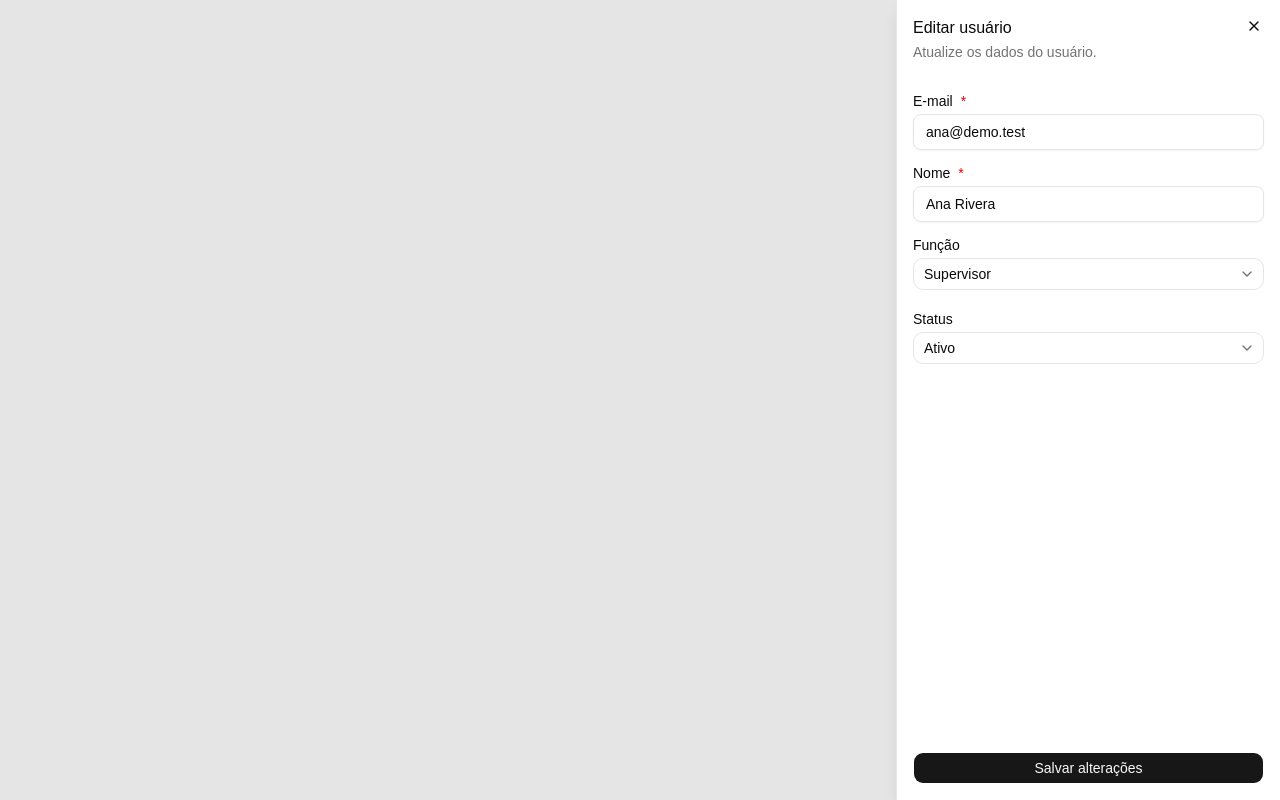
Test: UserForm status labels in pt-BR › UserForm_ShouldShowTheHintInTheActiveLocale_WhenSuspendedIsSelected
The image size is (1280, 800).
Click the dropdown with test id "user-form-status": {"x": 940, "y": 348} [913, 332, 1264, 364]
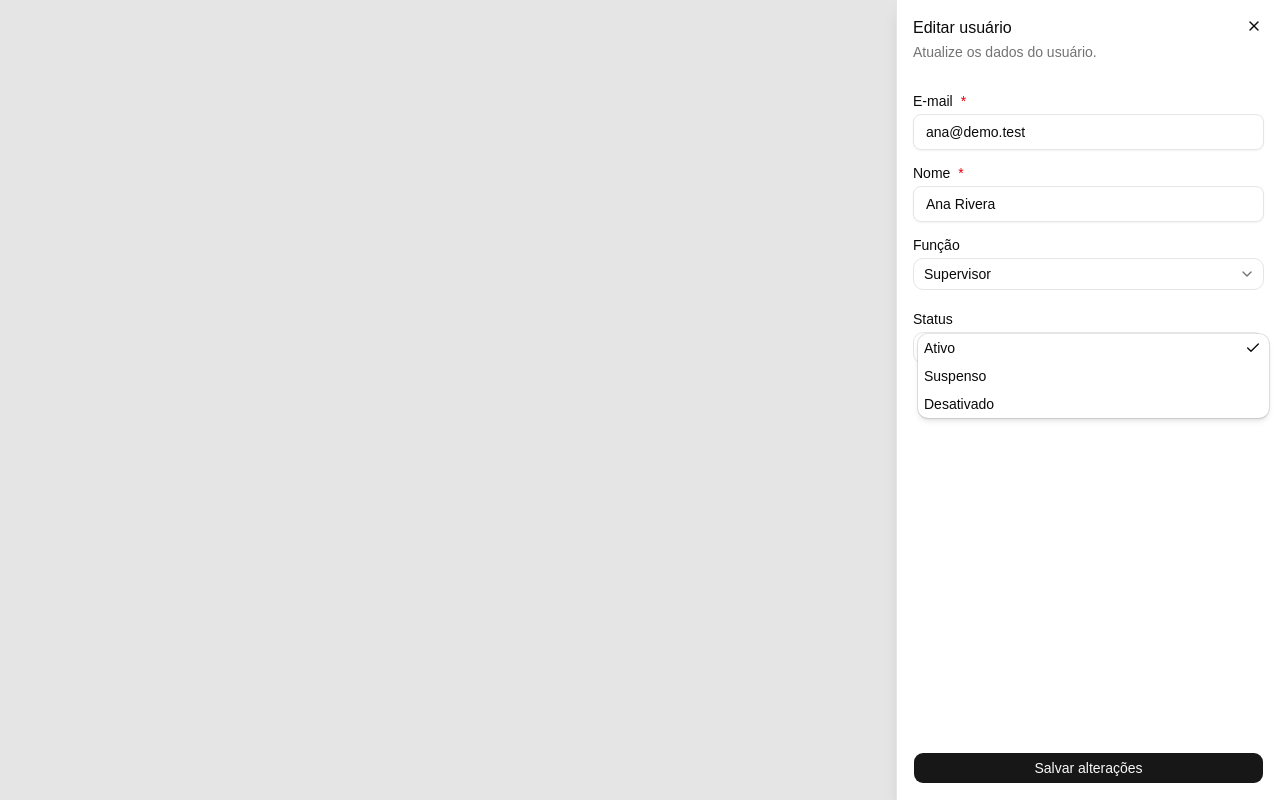
Click the option with test id "user-form-status-option-Suspended": {"x": 955, "y": 376} [924, 368, 986, 384]
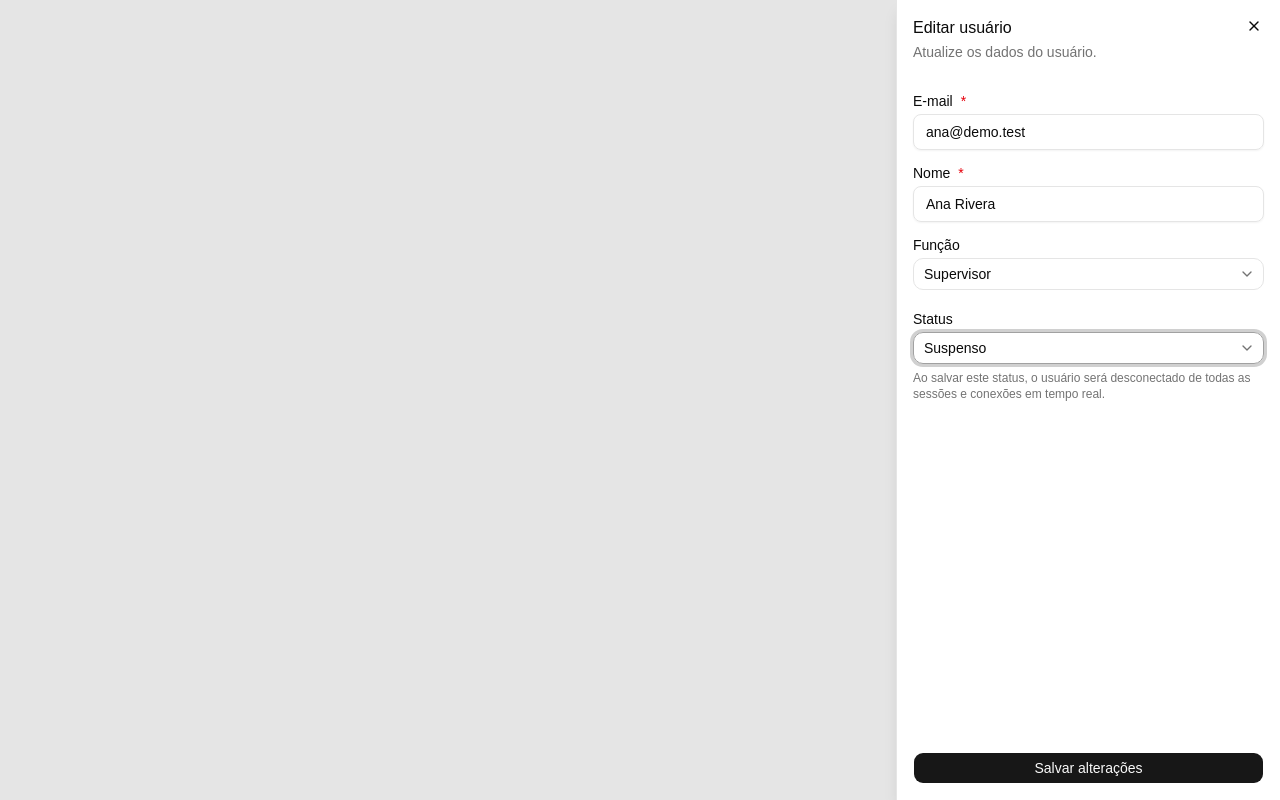
Check: no options are shown
Check: the text with test id "user-form-status-hint" shows "Ao salvar este status, o usuário será desconectado de todas as sessões e conexões em tempo real.", box [913, 371, 1250, 401]
